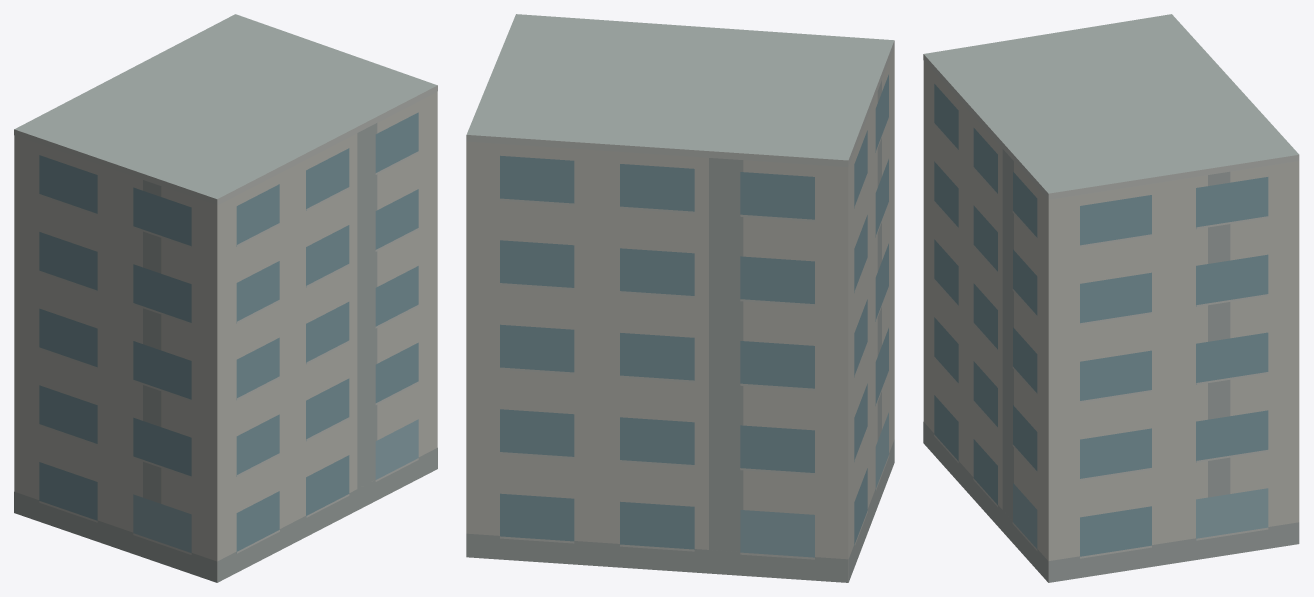
Rendered from survey-upis-32965657.glb.
The picture shows the model from 3 angles, left to right: view 1: azimuth 30°, elevation 25°; view 2: azimuth 150°, elevation 25°; view 3: azimuth 270°, elevation 25°; orthographic projection. The views are drawn at different scales.
Parts seen in each view (by area): view 1: survey-upis-32965657.tmp; view 2: survey-upis-32965657.tmp; view 3: survey-upis-32965657.tmp.
Part boxes in pixels (x1=…): survey-upis-32965657.tmp: x1=14, y1=14, x2=437, y2=582; survey-upis-32965657.tmp: x1=466, y1=14, x2=894, y2=582; survey-upis-32965657.tmp: x1=923, y1=14, x2=1299, y2=582.
Bounding box in the file's own units: 15.1 × 15.25 × 13.36.
